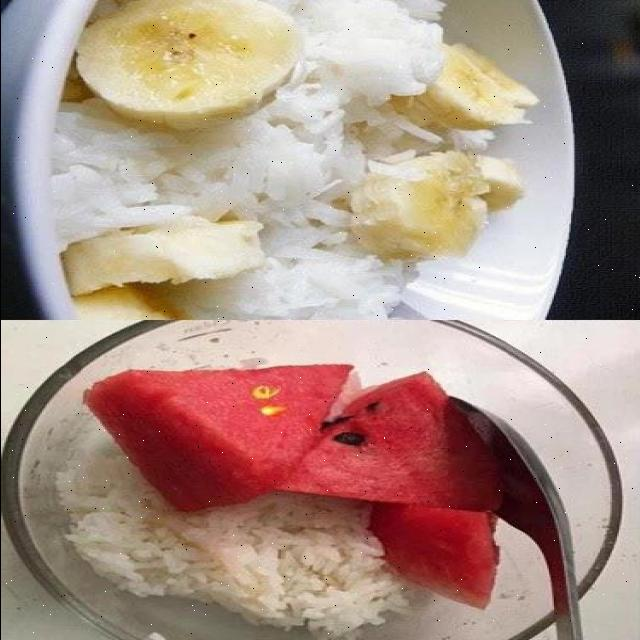Fruits: (87, 365, 498, 607), (75, 0, 299, 128), (61, 215, 261, 318), (350, 150, 521, 260), (389, 44, 538, 131)
Rice: (51, 0, 442, 318), (53, 409, 408, 637)
